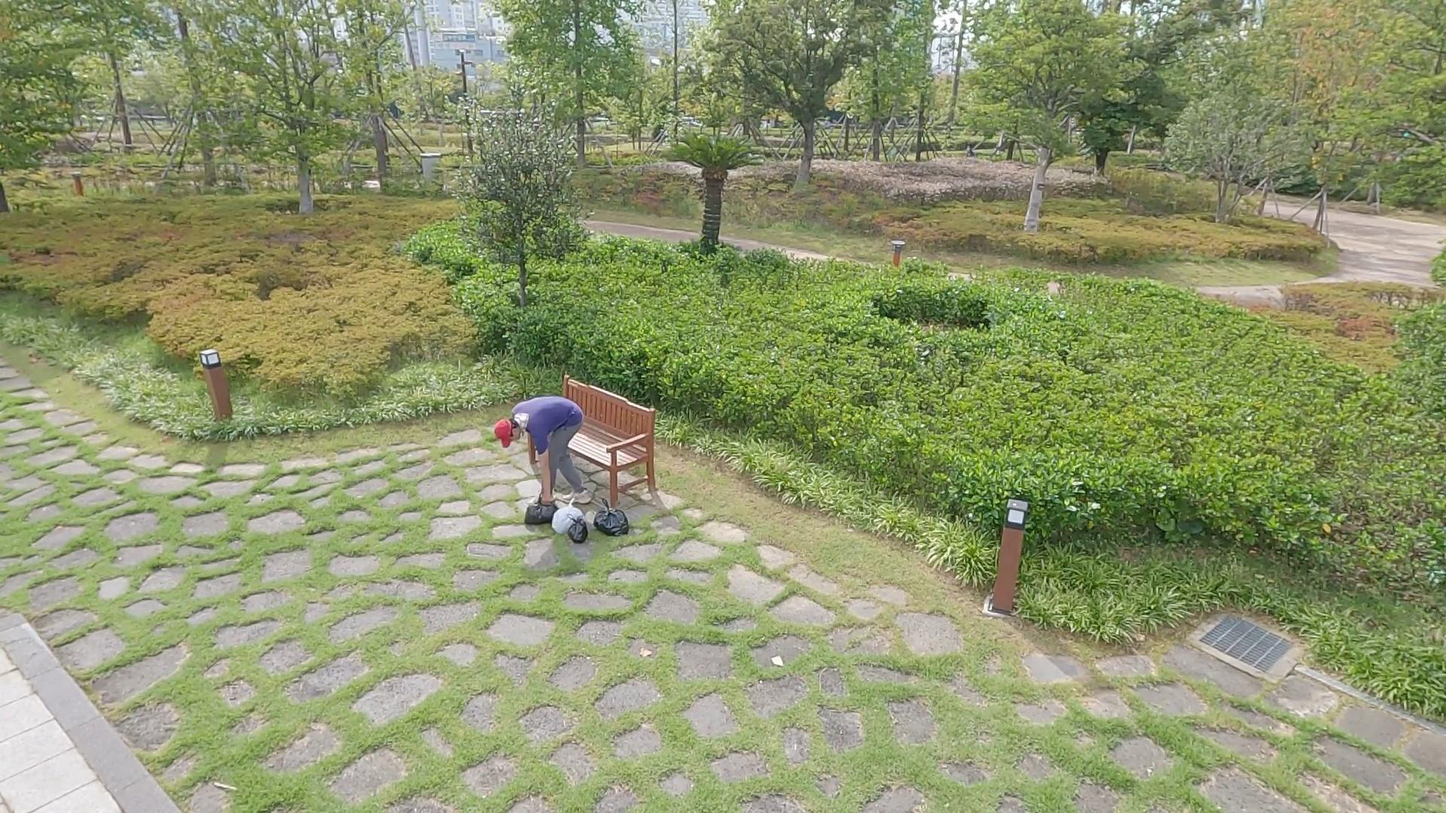person: (491, 395, 593, 506)
trash: (592, 499, 631, 538), (524, 494, 563, 532), (549, 496, 586, 536), (563, 511, 591, 543)
